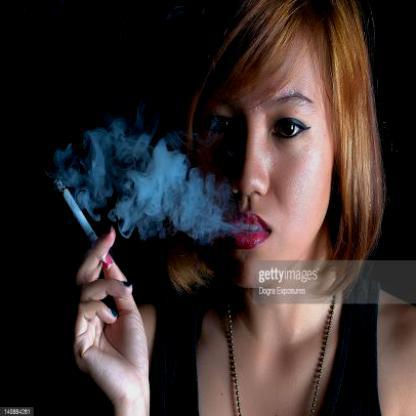cigarette: (54, 178, 98, 242)
person: (167, 2, 378, 415)
smoke: (113, 122, 190, 242), (72, 128, 112, 220), (188, 166, 230, 244)
